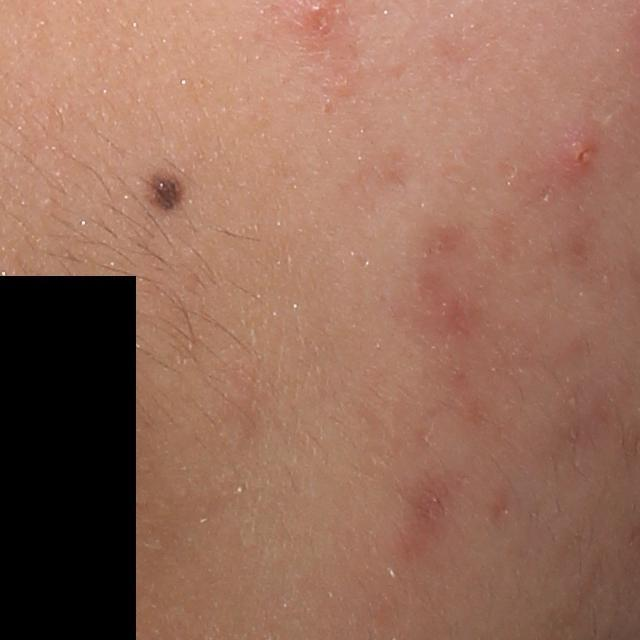nevus: (150, 170, 184, 213)
